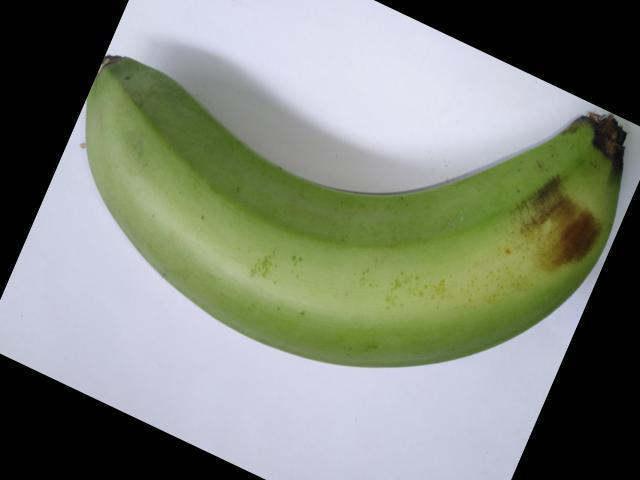freshunripe: (71, 27, 639, 387)
